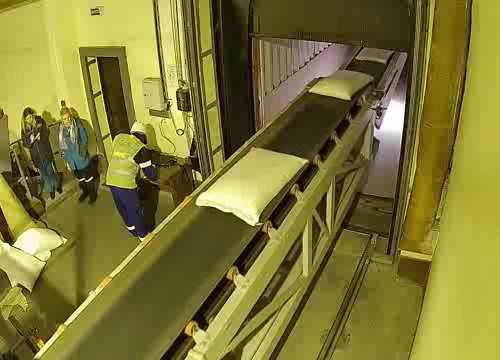bag: (194, 146, 310, 227), (307, 70, 376, 102), (355, 47, 394, 64)
